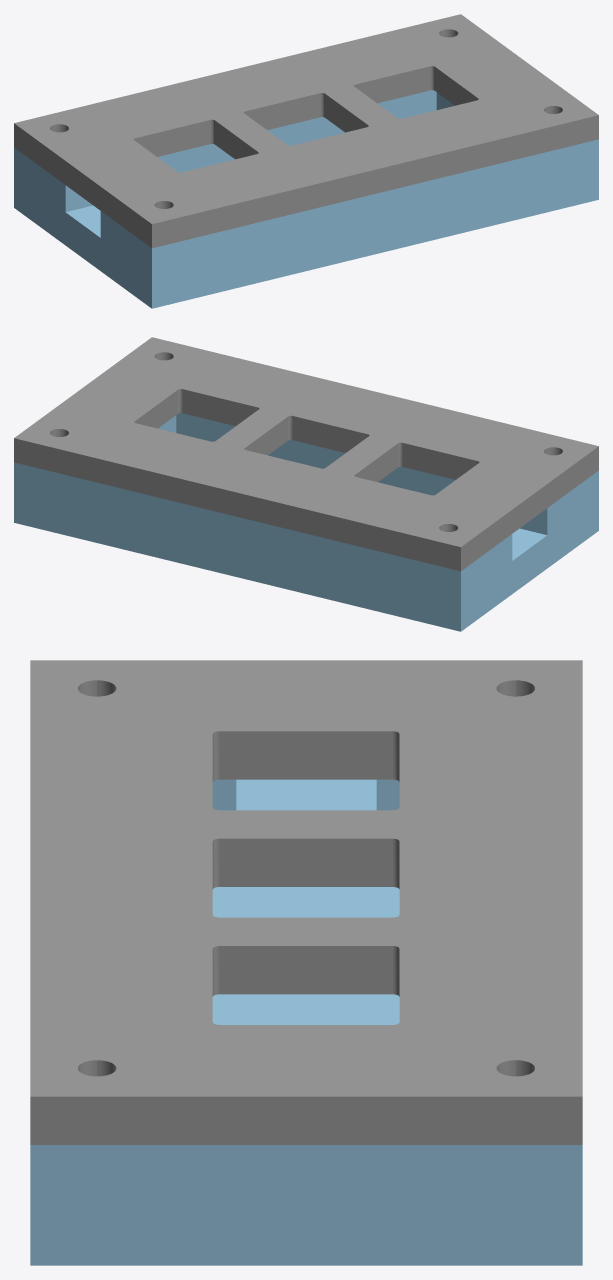
3 renders of one model, top to bottom at view 1: azimuth 30°, elevation 25°; view 2: azimuth 150°, elevation 25°; view 3: azimuth 270°, elevation 25°, orthographic. The views are drawn at different scales.
Parts seen in each view (by area): view 1: empty_3, empty_5, empty_2, empty_4; view 2: empty_3, empty_5, empty_2, empty_4; view 3: empty_5, empty_3, empty_2, empty_4.
Part boxes in pixels (bbox=[...]): empty_3: bbox=[14, 90, 598, 308]; empty_5: bbox=[14, 14, 598, 223]; empty_2: bbox=[14, 29, 598, 248]; empty_4: bbox=[105, 52, 507, 185]; empty_3: bbox=[14, 413, 598, 631]; empty_5: bbox=[14, 337, 598, 546]; empty_2: bbox=[14, 352, 598, 571]; empty_4: bbox=[105, 375, 507, 508]; empty_5: bbox=[30, 660, 582, 1096]; empty_3: bbox=[30, 779, 582, 1265]; empty_2: bbox=[30, 680, 582, 1144]; empty_4: bbox=[163, 716, 449, 1039].
Size of the model in its own units: 77.4 by 14 by 41.4.
